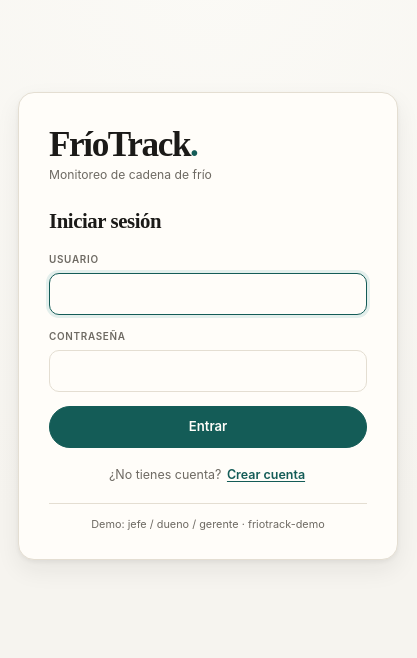
Scenario: Login › cambia al modo de registro sin recargar y vuelve al login
Step 1. Click the button "Crear cuenta" → (266, 475), box [225, 464, 307, 485]
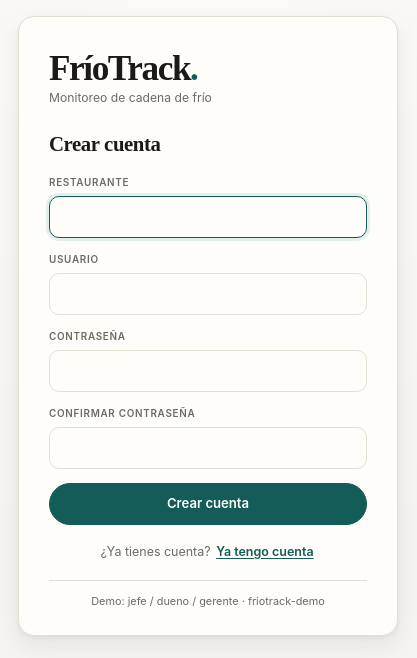
Result: the heading "Crear cuenta" is shown at [49, 132, 160, 155]
Step 2. Click the button "Ya tengo cuenta" → (265, 551), box [214, 541, 316, 562]
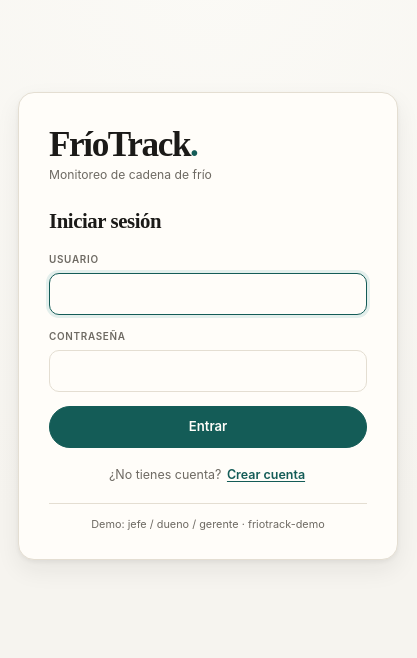
Result: the heading "Iniciar sesión" is shown at [49, 209, 161, 232]
Result: the text labelled "Restaurante" is gone
